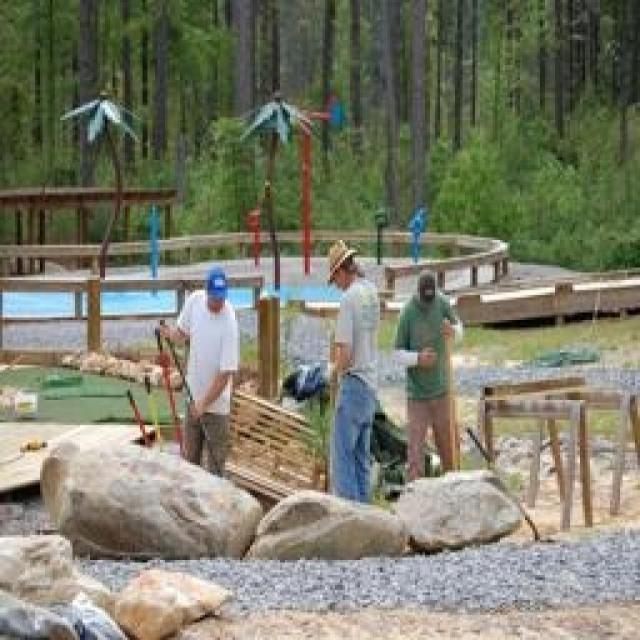Helmet: (386, 290, 476, 436), (310, 270, 396, 417), (174, 293, 249, 423), (185, 254, 245, 323), (309, 218, 366, 290), (407, 271, 451, 315)
